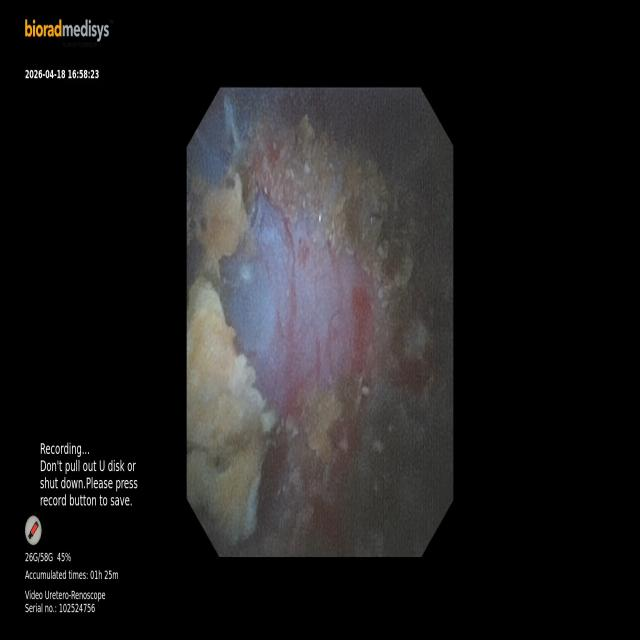stone-new: (187, 277, 276, 545), (200, 174, 247, 260), (303, 388, 342, 463)
